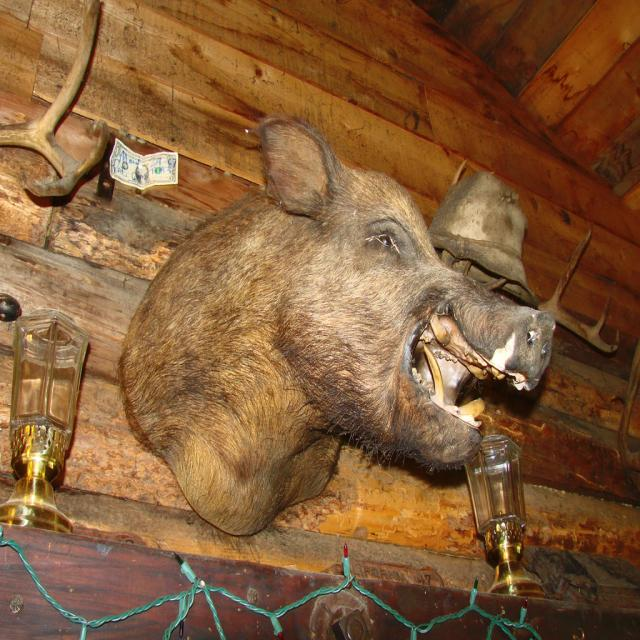Pig: (114, 118, 555, 542)
